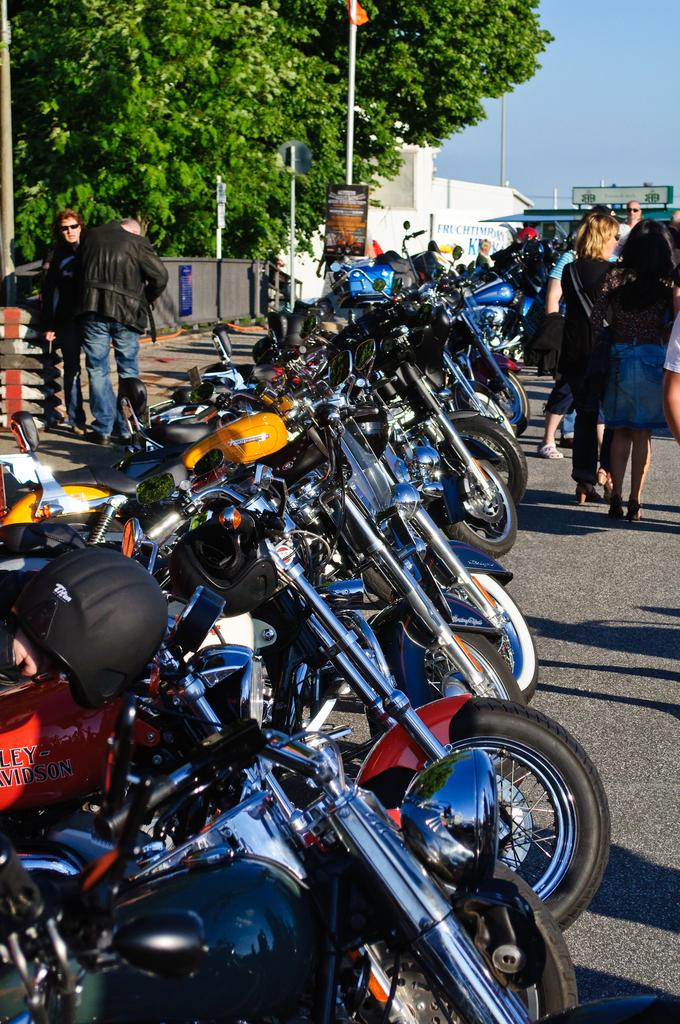helmet: (10, 547, 169, 709), (169, 511, 278, 619)
nohelmet: (627, 218, 671, 272), (578, 212, 621, 259), (54, 208, 84, 245), (625, 200, 642, 221), (479, 239, 492, 256)
